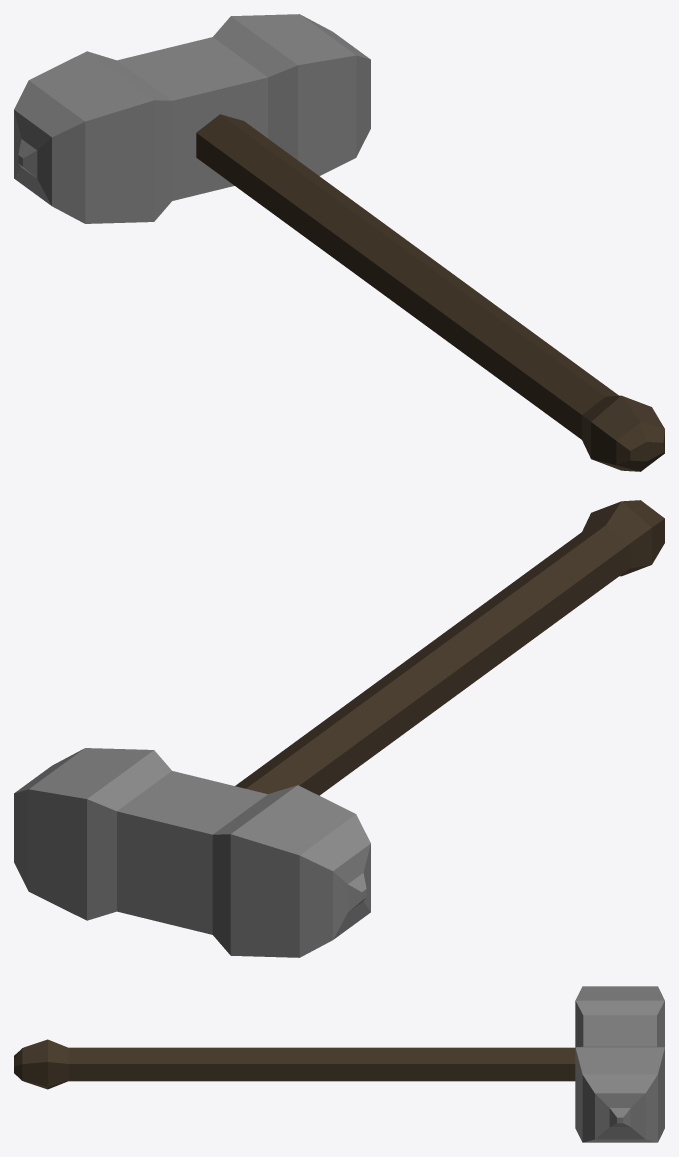
File: Hammer.fbx
3 renders of one model, top to bottom at view 1: azimuth 30°, elevation 25°; view 2: azimuth 150°, elevation 25°; view 3: azimuth 270°, elevation 25°, orthographic. The views are drawn at different scales.
Parts seen in each view (by area): view 1: HammerHead, HammerHandle; view 2: HammerHead, HammerHandle; view 3: HammerHandle, HammerHead.
Part boxes in pixels (x1,y1,x2,y2): HammerHead: (14,14,370,223); HammerHandle: (196,114,664,471); HammerHead: (14,748,370,957); HammerHandle: (235,500,664,795); HammerHandle: (14,1039,575,1089); HammerHead: (575,986,664,1142).
Bounding box in the file's own units: 143 × 48.53 × 353.
